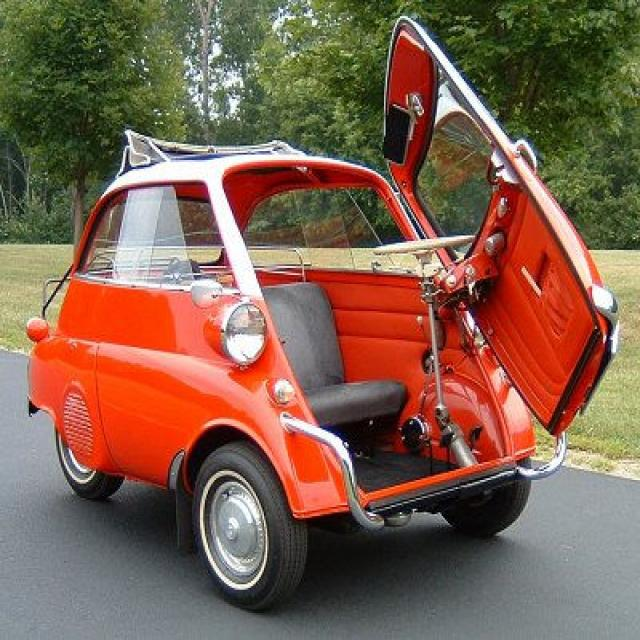Car: (20, 16, 623, 602)
